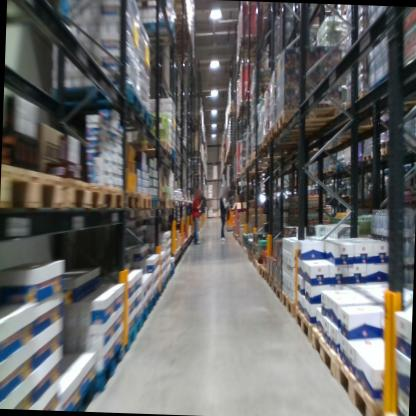pallet: (58, 75, 147, 123), (1, 154, 64, 221), (336, 355, 395, 416), (275, 100, 344, 134), (59, 170, 104, 212), (311, 326, 343, 381), (98, 341, 126, 395), (99, 108, 160, 132), (293, 304, 319, 349), (93, 182, 126, 215), (263, 131, 317, 150), (70, 374, 97, 410), (267, 123, 313, 144), (123, 140, 173, 158), (123, 313, 143, 354), (250, 149, 294, 164), (257, 137, 292, 155), (280, 289, 298, 318), (119, 190, 141, 211), (139, 298, 155, 325), (135, 193, 153, 213), (372, 403, 395, 416), (272, 280, 284, 302), (259, 267, 274, 282), (265, 272, 275, 292), (322, 163, 336, 176), (150, 193, 160, 211), (370, 149, 384, 161), (335, 160, 345, 173), (159, 197, 167, 211), (362, 153, 372, 164), (343, 159, 352, 170)
pallet_truck: (219, 199, 244, 238)
